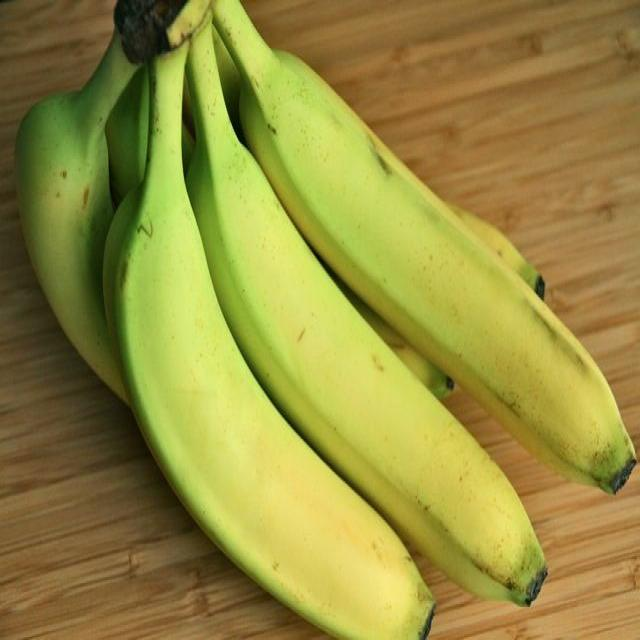unpeal banana: (213, 0, 635, 493), (187, 29, 545, 604), (104, 45, 432, 639), (16, 33, 134, 398), (334, 276, 452, 398), (106, 66, 148, 203)
